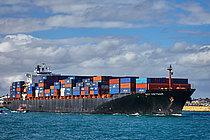Ship: (6, 62, 201, 119)
